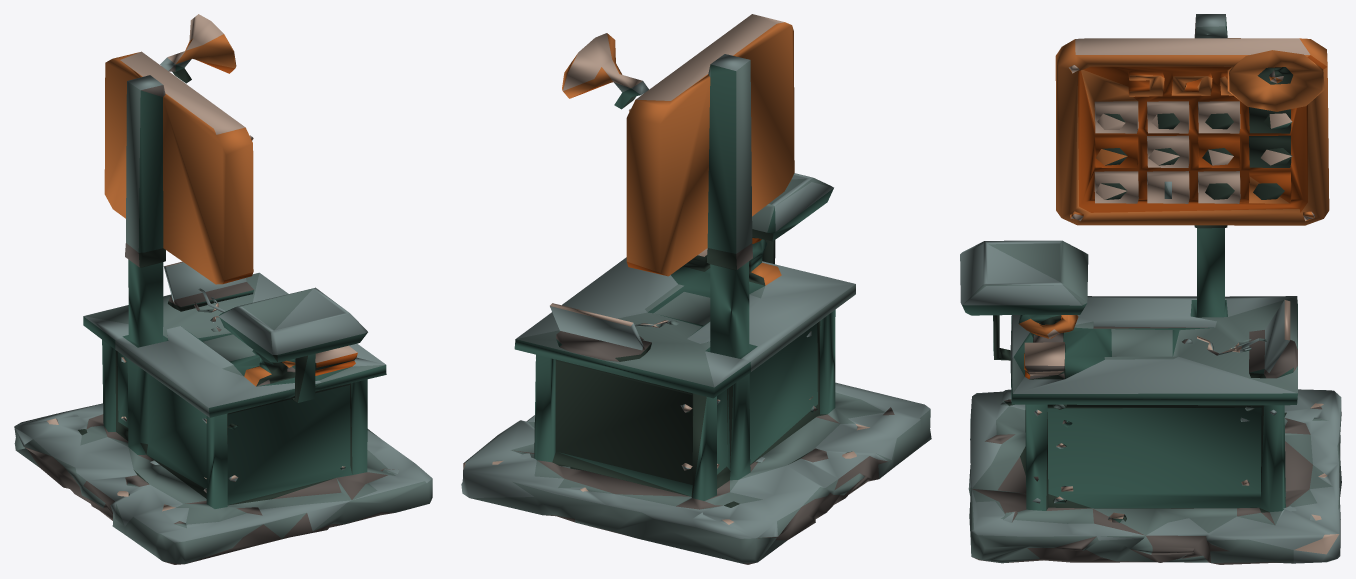
File: poi_tally_stand_lod1.glb
3 views of the same model, side by side, from view 1: azimuth 30°, elevation 25°; view 2: azimuth 150°, elevation 25°; view 3: azimuth 270°, elevation 25° (orthographic). The views are drawn at different scales.
Parts seen in each view (by area): view 1: TallyStand; view 2: TallyStand; view 3: TallyStand.
Part boxes in pixels (box(x1,y1,x2,y2)): TallyStand: box(14, 14, 432, 564); TallyStand: box(461, 14, 931, 564); TallyStand: box(960, 14, 1341, 564).
Bounding box in the file's own units: 2.84 × 4 × 2.99.
